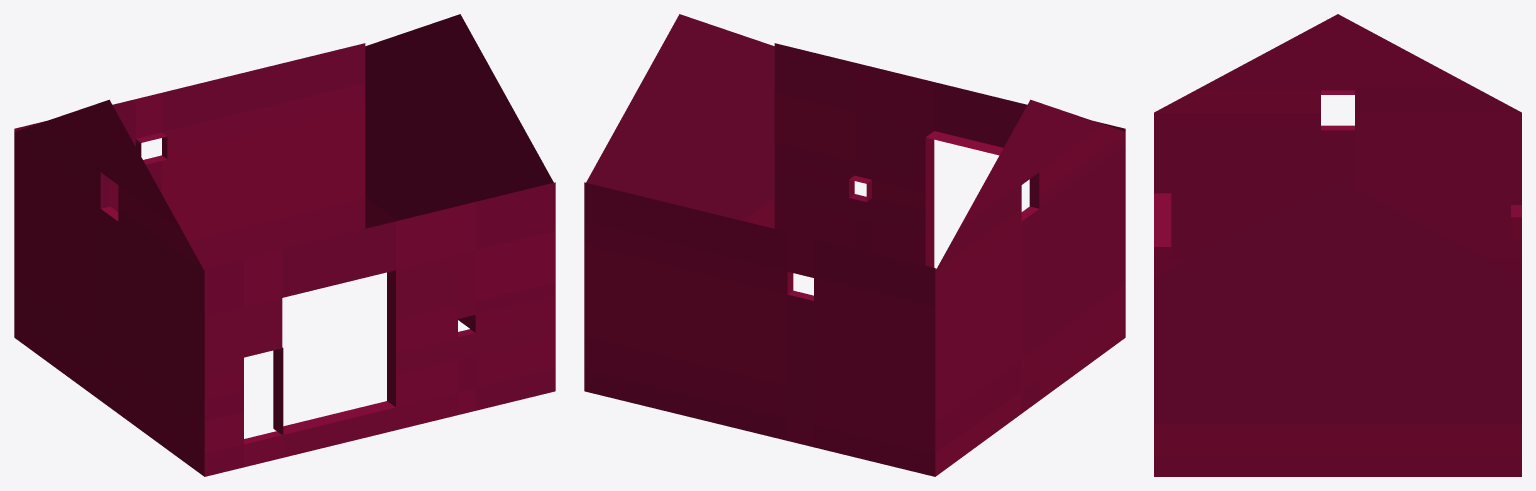
File: SM_Bld_117_Masonry.glb
3 views of the same model, side by side, from view 1: azimuth 30°, elevation 25°; view 2: azimuth 150°, elevation 25°; view 3: azimuth 270°, elevation 25° (orthographic). The views are drawn at different scales.
Parts seen in each view (by area): view 1: SM_Bld_117_Masonry; view 2: SM_Bld_117_Masonry; view 3: SM_Bld_117_Masonry.
Boxes of the visible parts, left/top/right/bottom form: SM_Bld_117_Masonry: left=14, top=14, right=555, bottom=476; SM_Bld_117_Masonry: left=584, top=14, right=1125, bottom=476; SM_Bld_117_Masonry: left=1154, top=14, right=1521, bottom=476.
Size of the model in its own units: 8.03 by 6.73 by 7.54.
